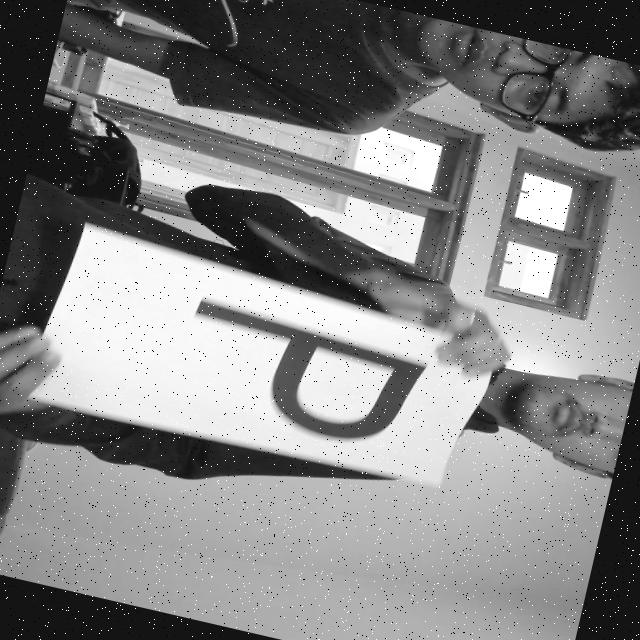p: (158, 286, 448, 469)
